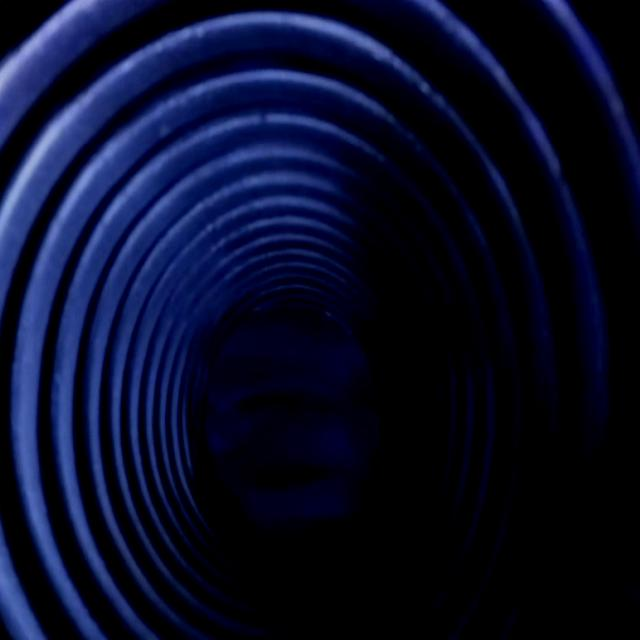block: (212, 321, 380, 522)
